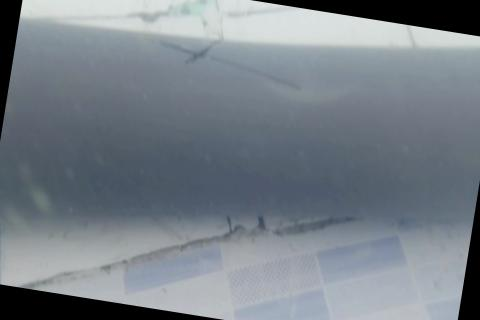keretakan: (155, 36, 305, 92)
